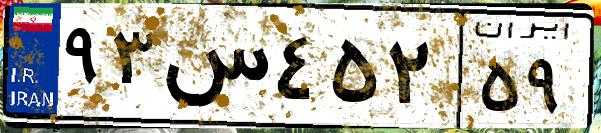2: (385, 28, 445, 110)
3: (110, 28, 158, 98)
4: (270, 28, 330, 110)
5: (330, 28, 385, 110), (475, 38, 525, 113)
9: (57, 26, 110, 100), (525, 38, 570, 115)
س: (158, 20, 270, 120)
